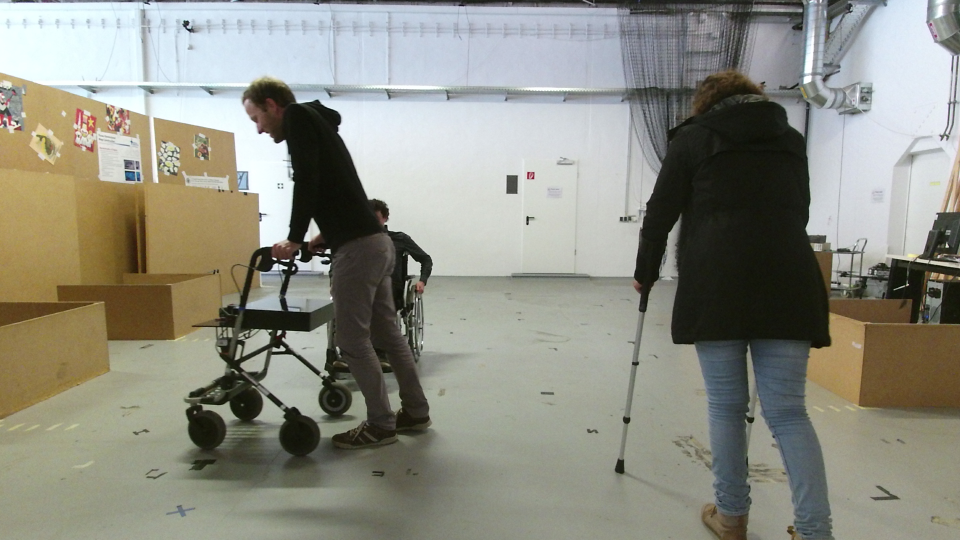crutches: (611, 67, 837, 540)
